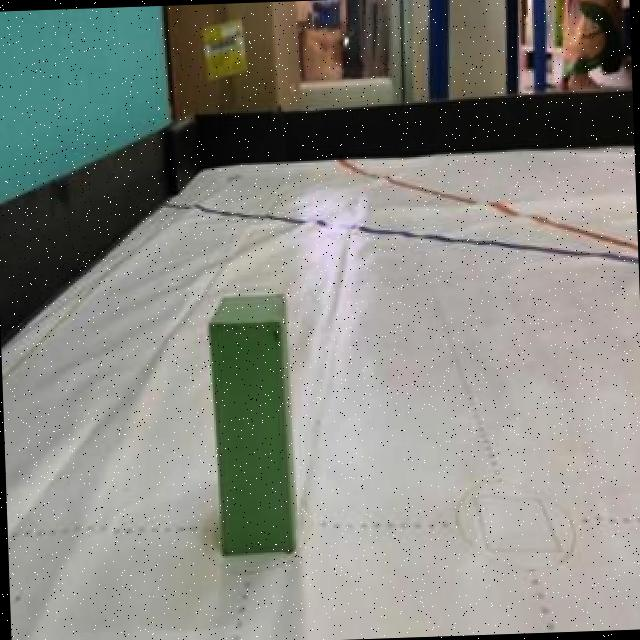greenbox: (209, 288, 298, 557)
